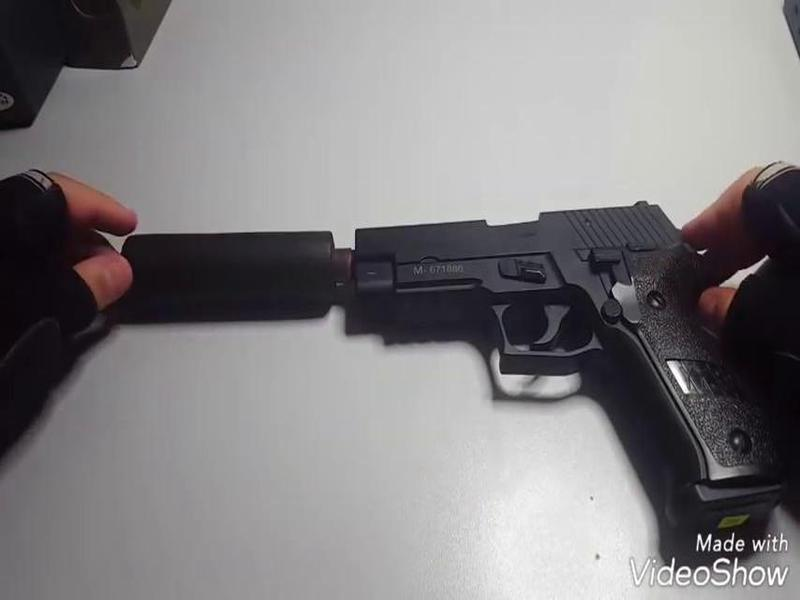Pistola: (352, 185, 788, 535)
